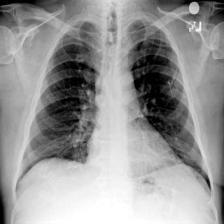normal: (9, 8, 217, 202)
